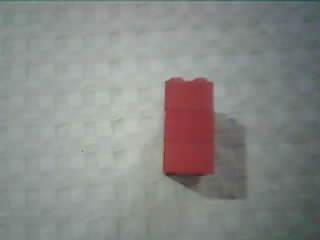lego: (161, 74, 215, 179)
